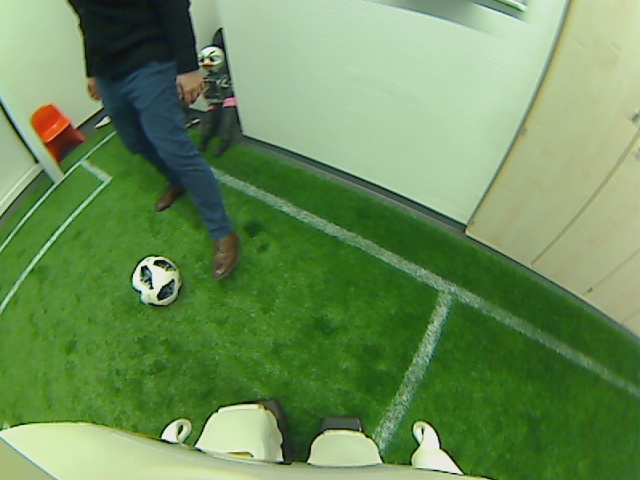ball: (131, 254, 181, 306)
